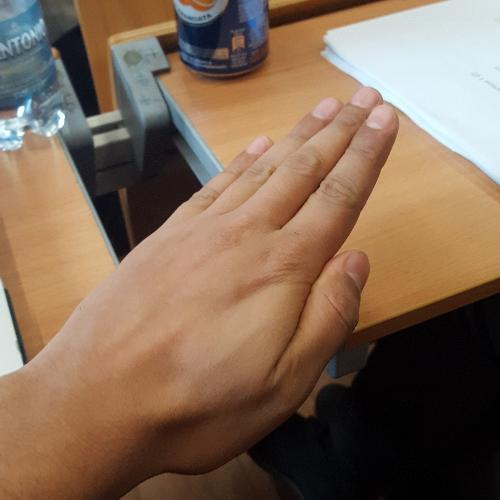paper: (37, 81, 408, 474)
